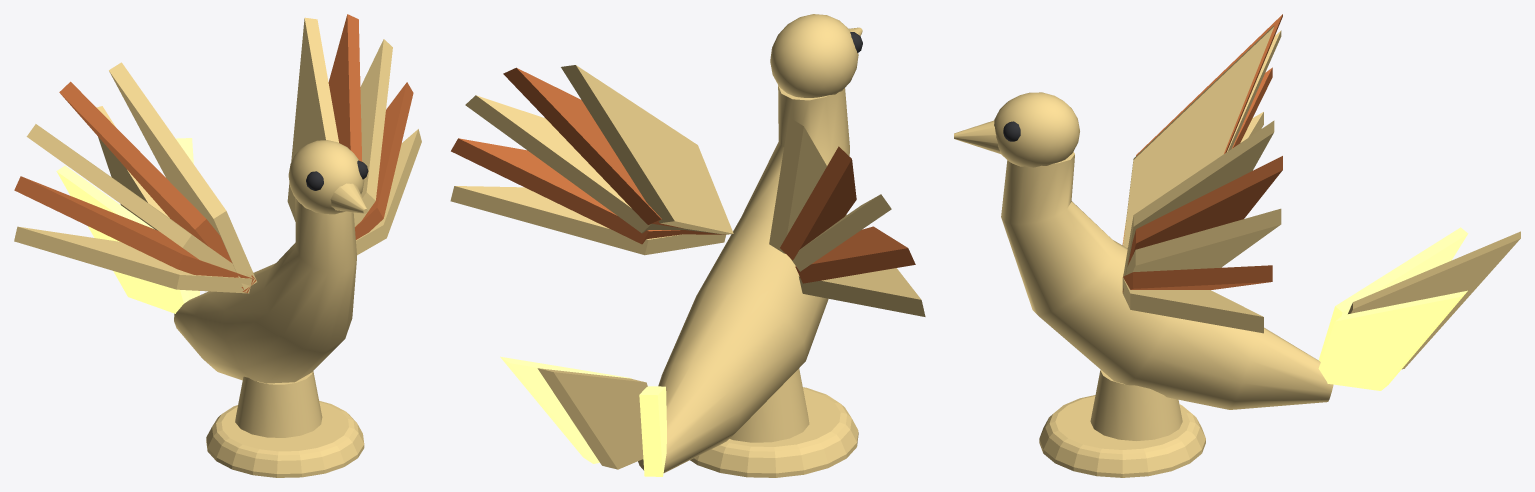
Rendered from orn_phoenix.fbx.
3 renders of one model, left to right at view 1: azimuth 30°, elevation 25°; view 2: azimuth 150°, elevation 25°; view 3: azimuth 270°, elevation 25°, orthographic. The views are drawn at different scales.
Parts seen in each view (by area): view 1: gold_1, copper_1, glow_ember_1, dark_1; view 2: gold_1, copper_1, glow_ember_1; view 3: gold_1, glow_ember_1, copper_1.
Boxes of the visible parts, x1,y1,x2,y2 form: gold_1: [14, 17, 421, 477]; copper_1: [14, 14, 413, 292]; glow_ember_1: [56, 138, 199, 313]; dark_1: [306, 160, 368, 190]; gold_1: [450, 14, 925, 477]; copper_1: [451, 67, 915, 283]; glow_ember_1: [500, 356, 666, 476]; gold_1: [954, 25, 1520, 477]; glow_ember_1: [1318, 227, 1468, 390]; copper_1: [1122, 14, 1282, 291].
Size of the model in its own units: 0.0327 by 0.0271 by 0.0375.
